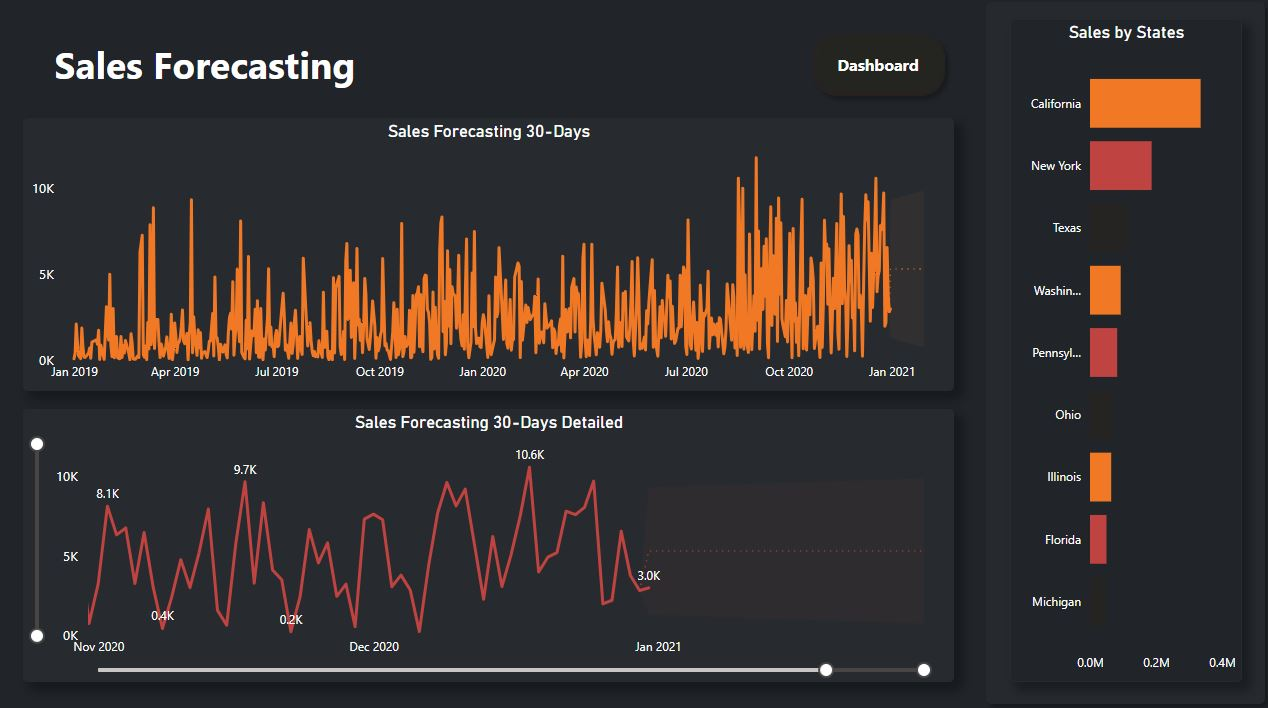

Layout of this report page (visuals, bound fields, positions):
{"tool":"powerbi","page":{"name":"Forecasting","canvas":[1280,720],"ordinal":1},"visuals":[{"type":"shape","box":[983,0,297,720],"z":0},{"type":"lineChart","title":"Sales Forecasting 30-Days","fields":{"Y":["Sum(SuperStore_Sales_Dataset.Sales)"],"Category":["SuperStore_Sales_Dataset.Order Date"]},"box":[29,125,931,273],"z":1000},{"type":"lineChart","title":"Sales Forecasting 30-Days Detailed","fields":{"Y":["Sum(SuperStore_Sales_Dataset.Sales)"],"Category":["SuperStore_Sales_Dataset.Order Date"]},"box":[29,416,931,273],"z":2000},{"type":"barChart","title":"Sales by States","fields":{"Category":["SuperStore_Sales_Dataset.State"],"Y":["Sum(SuperStore_Sales_Dataset.Sales)"]},"box":[1016,26,232,663],"z":3000},{"type":"textbox","title":"vvvvvvvv","box":[56,41,329,61],"z":4000},{"type":"actionButton","title":"hhh","box":[809,31,151,81],"z":5000}]}

Visuals, with their boxes in screenshot pixels (x1, y1, x2, y2), scaled from the page's 1280x720 canvas onto the 1268x708 screenshot:
shape: <bbox>974, 0, 1267, 707</bbox>
"Sales Forecasting 30-Days" lineChart: <bbox>29, 123, 951, 391</bbox>
"Sales Forecasting 30-Days Detailed" lineChart: <bbox>29, 409, 951, 678</bbox>
"Sales by States" barChart: <bbox>1006, 26, 1236, 678</bbox>
"vvvvvvvv" textbox: <bbox>55, 40, 381, 100</bbox>
"hhh" actionButton: <bbox>801, 30, 951, 110</bbox>
